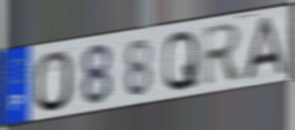8: (79, 42, 114, 107), (125, 37, 153, 98)
A: (242, 14, 288, 83)
O: (33, 49, 75, 115)
Q: (162, 28, 199, 94)
R: (202, 21, 245, 90)
